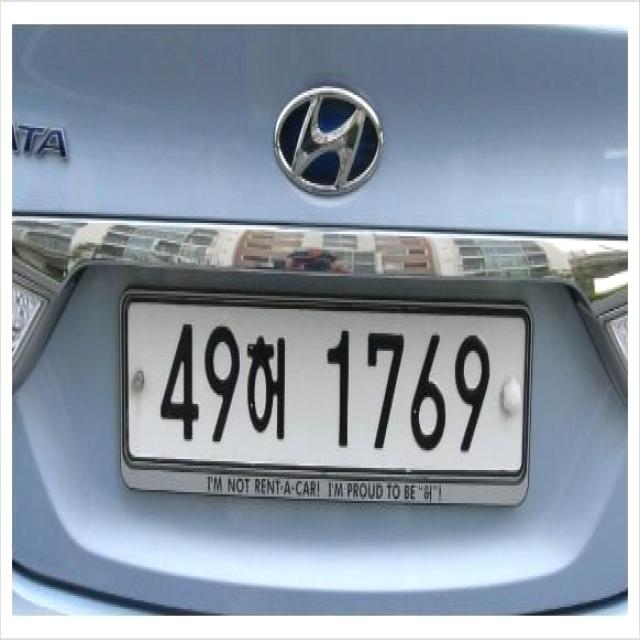illegal_plate: (121, 274, 534, 535)
